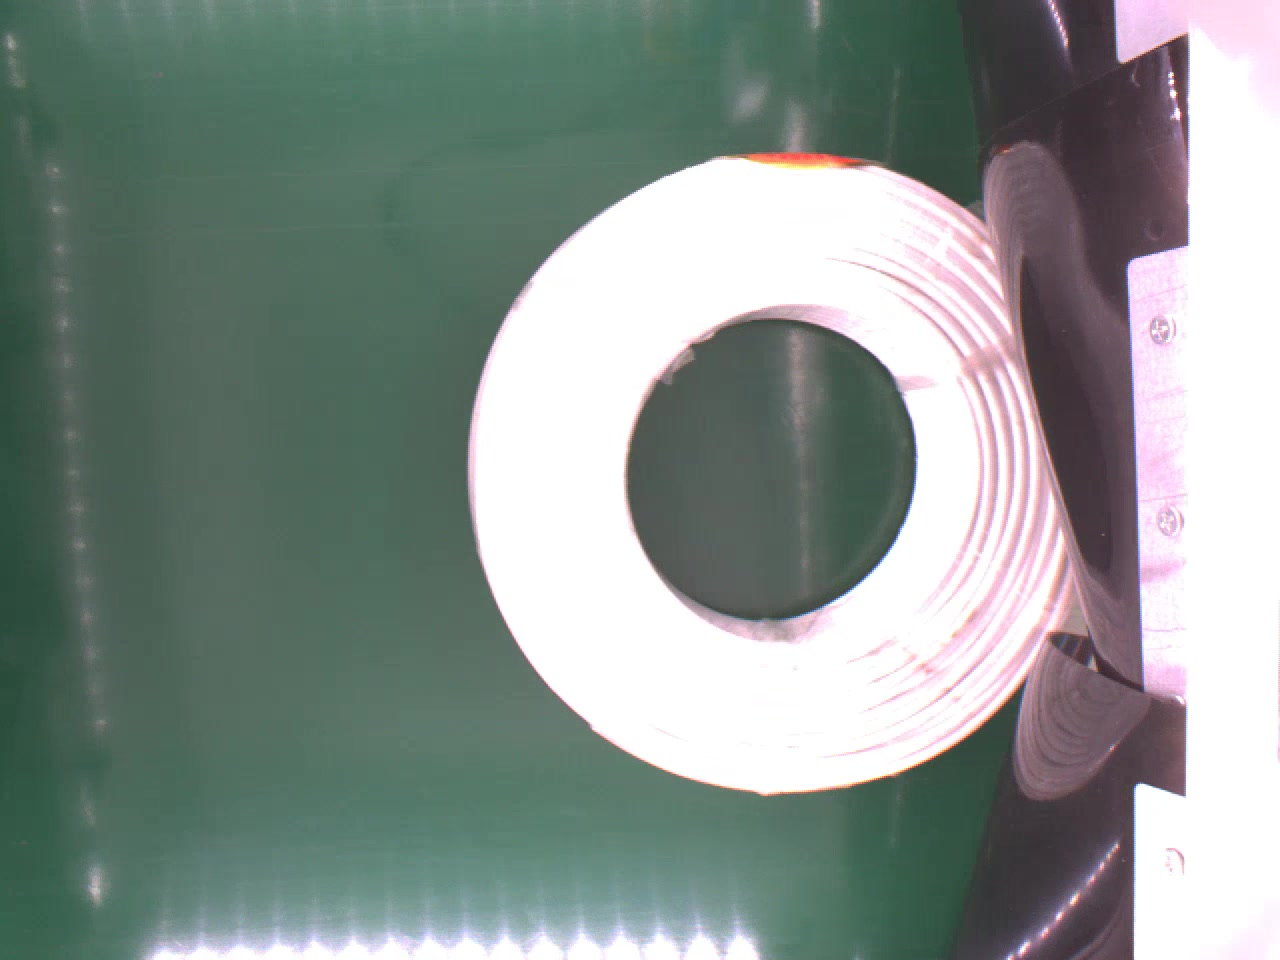white: (470, 143, 1078, 792)
